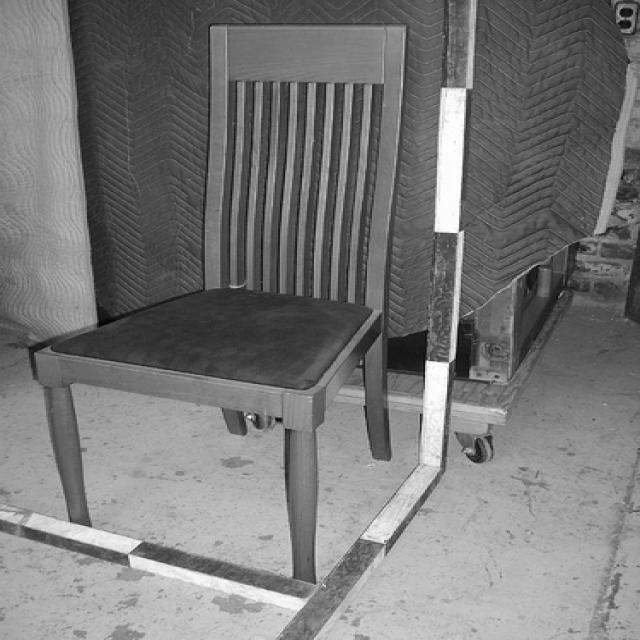chair: (31, 22, 412, 586)
